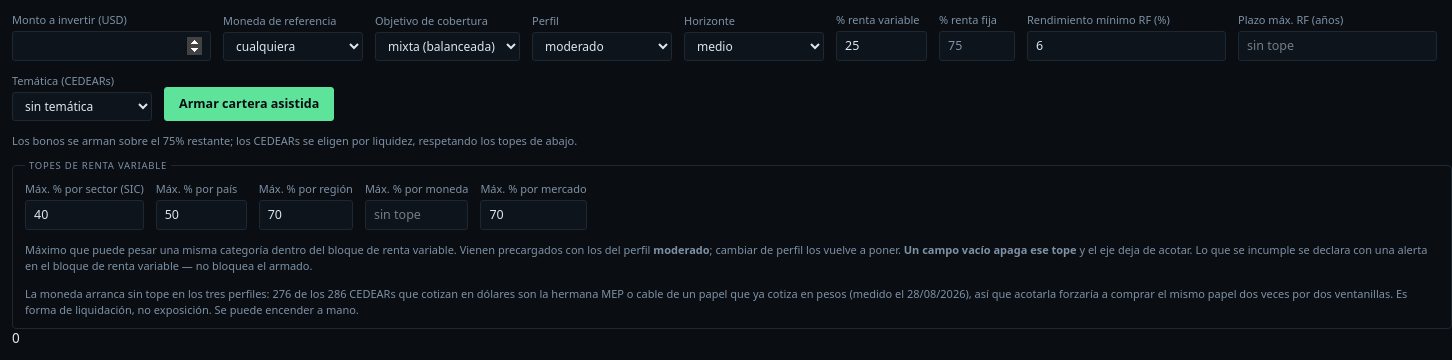
it: PanelArmadoAsistido › el % de renta variable se precarga con el default del perfil
Expected: the number field labelled "% renta variable" holds "25", [836,31,927,61]
Select "agresivo" in the dropdown labelled "Perfil": coordinates (602, 47) [532,32,672,61]
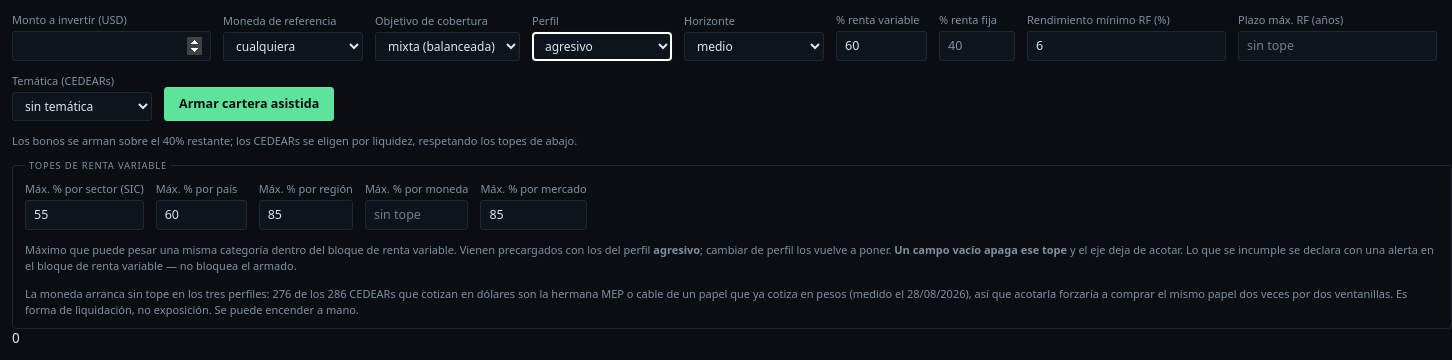
Expected: the number field labelled "% renta variable" holds "60", [836,31,927,61]
Select "conservador" in the dropdown labelled "Perfil": coordinates (602, 47) [532,32,672,61]
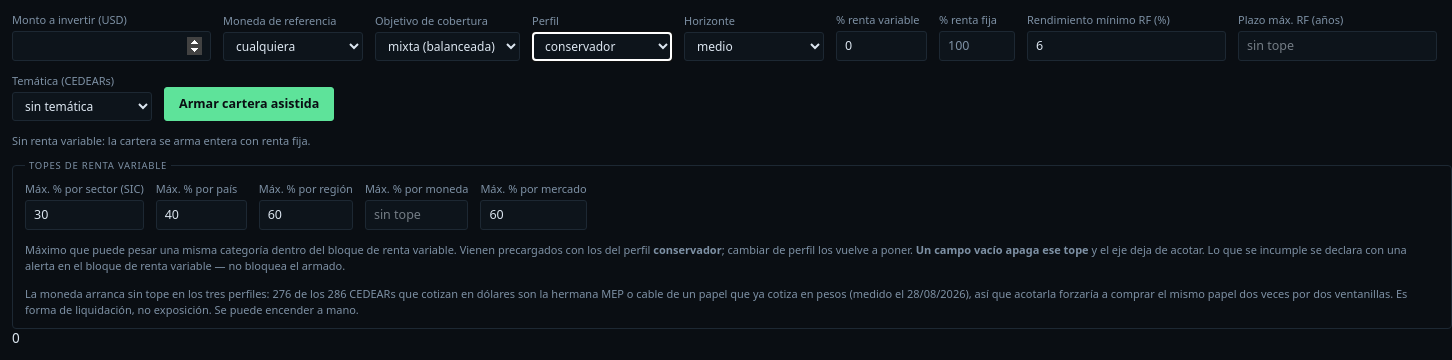
Expected: the number field labelled "% renta variable" holds "0", [836,31,927,61]
